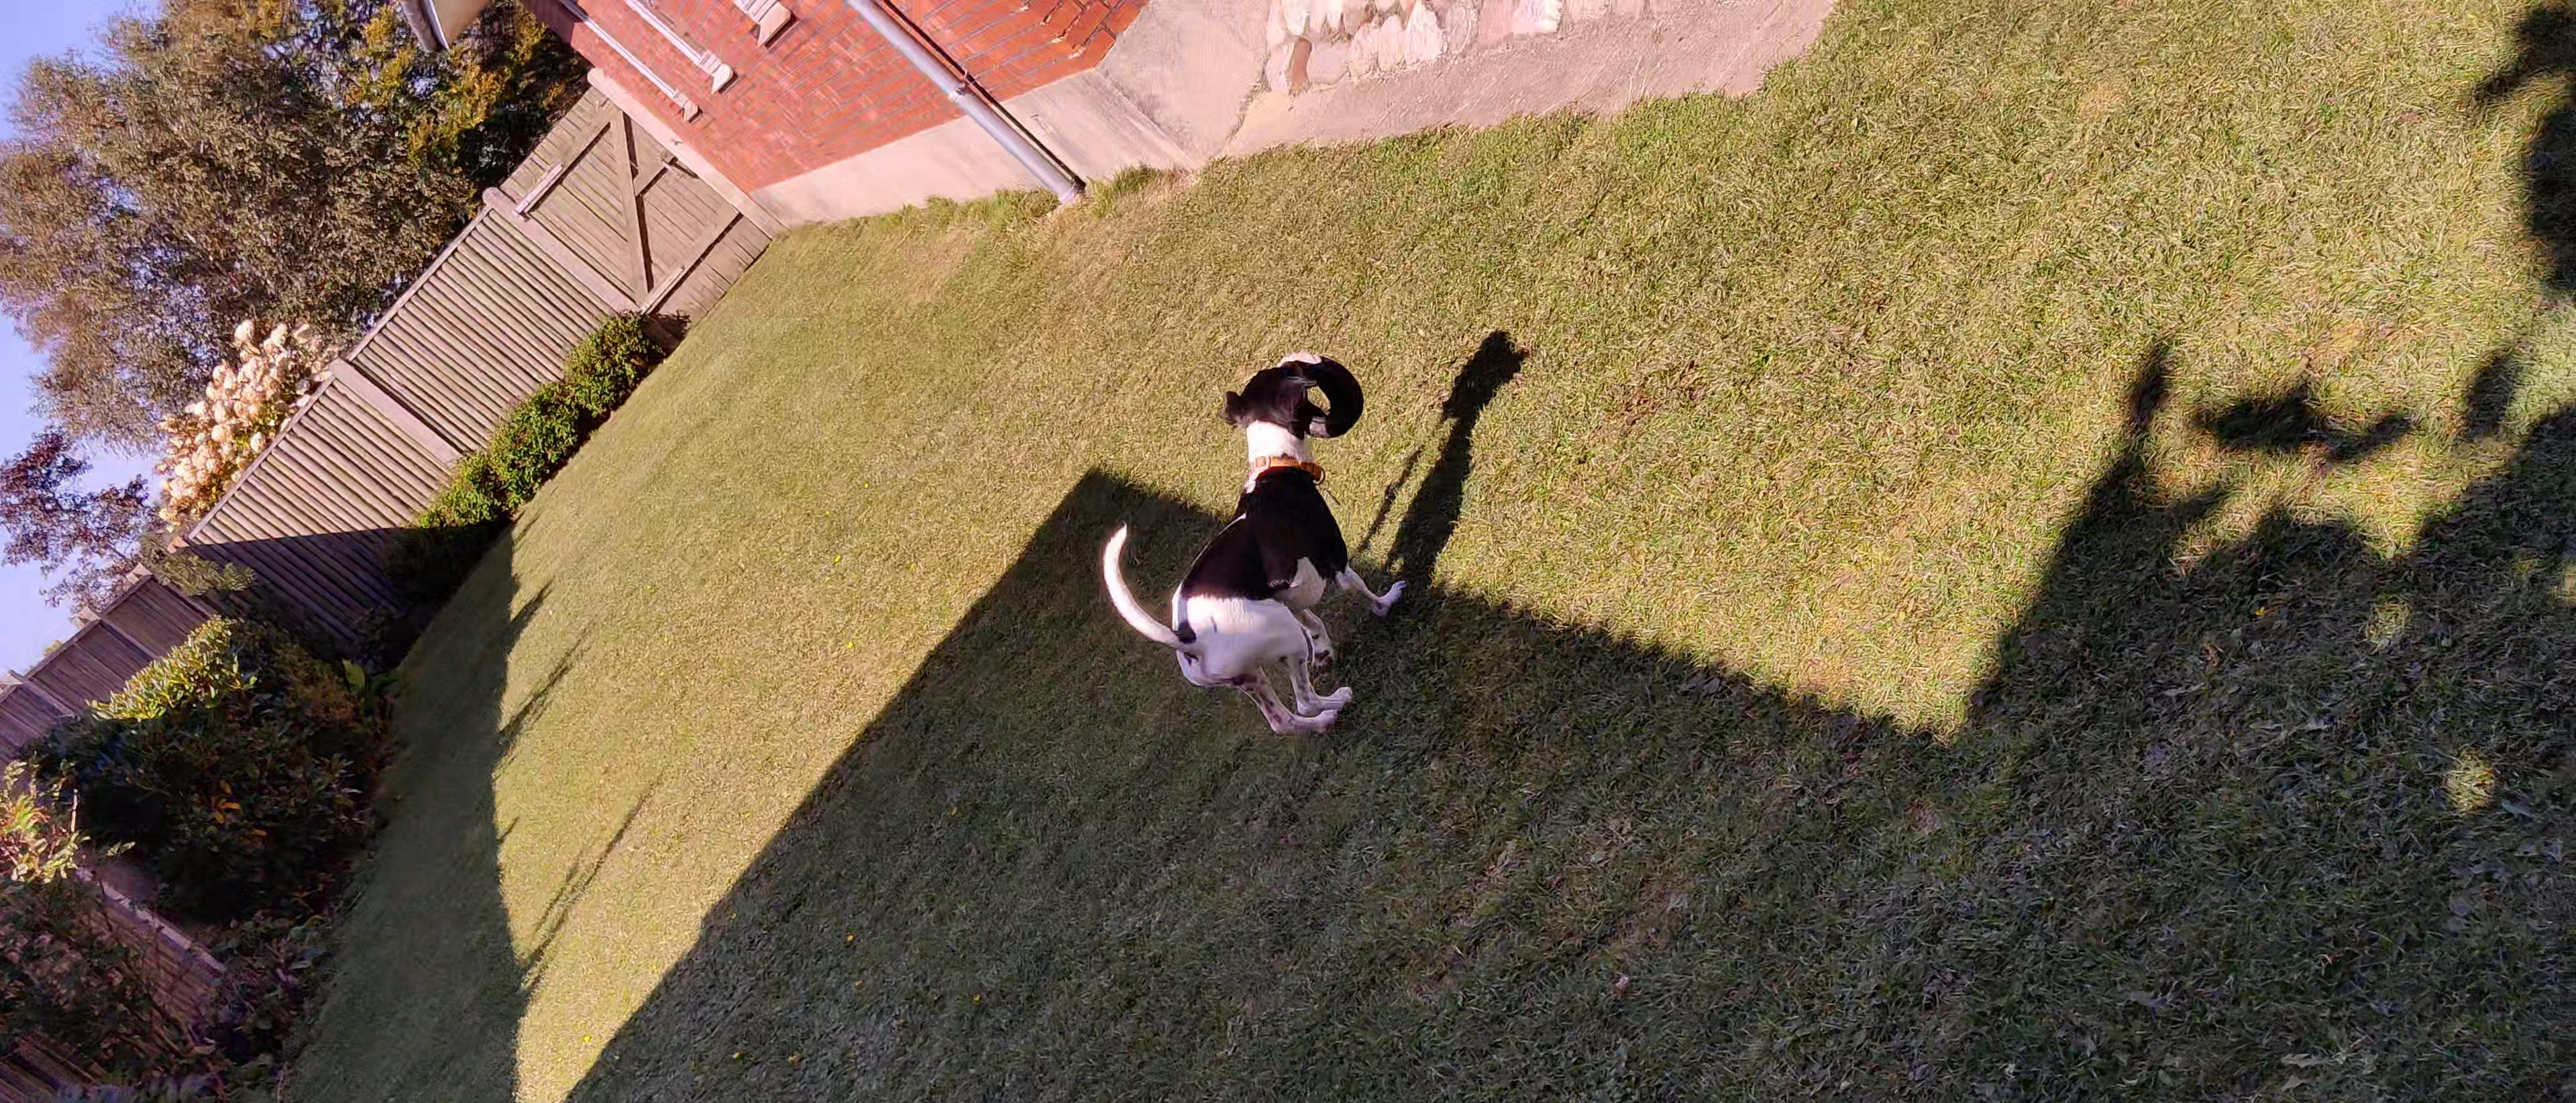Dog: (1094, 358, 1413, 735)
